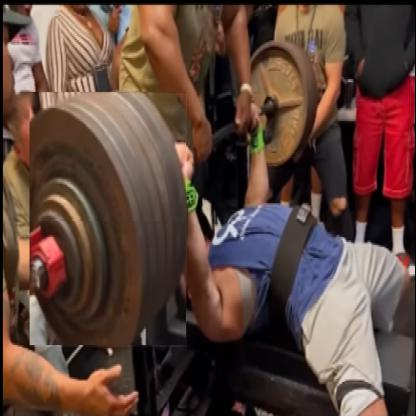barbell: (31, 94, 189, 349)
